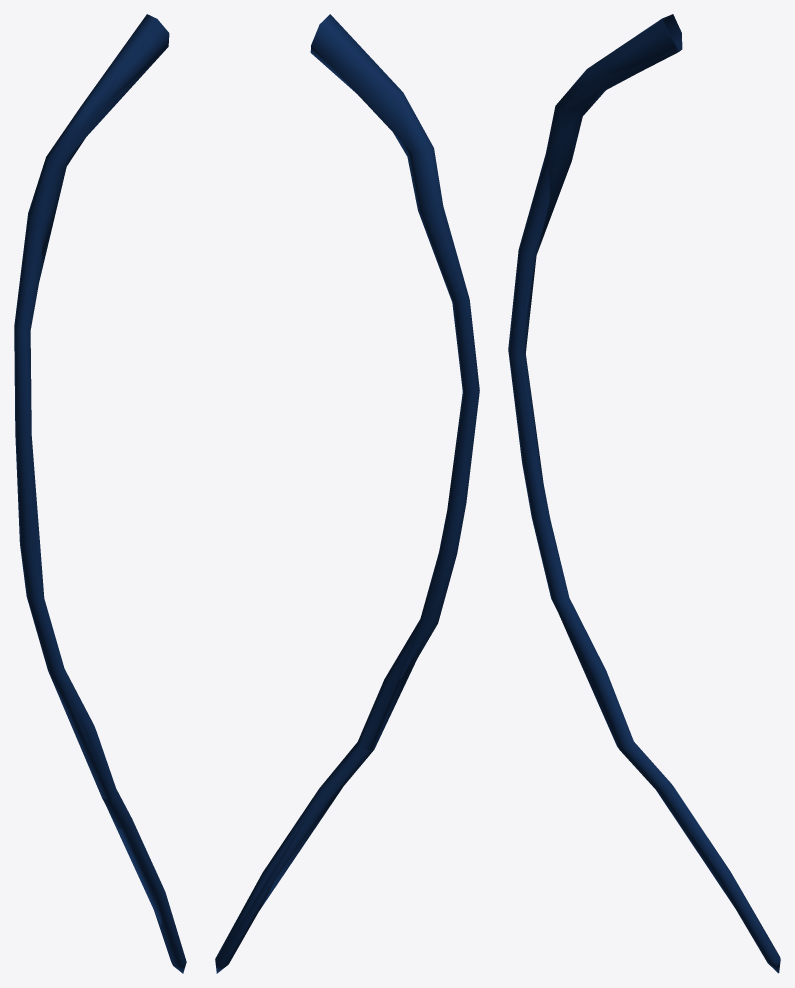
Rendered from R vena ramus cranialis.fbx.
3 views of the same model, side by side, from view 1: azimuth 30°, elevation 25°; view 2: azimuth 150°, elevation 25°; view 3: azimuth 330°, elevation 25° (orthographic). The views are drawn at different scales.
Visible parts, largest first — view 1: R vena ramus cranialis, R vena ramus cranialis low; view 2: R vena ramus cranialis, R vena ramus cranialis low; view 3: R vena ramus cranialis, R vena ramus cranialis low.
Boxes of the visible parts, x1=… form: R vena ramus cranialis: x1=14, y1=19, x2=186, y2=973; R vena ramus cranialis low: x1=21, y1=14, x2=167, y2=949; R vena ramus cranialis: x1=215, y1=93, x2=479, y2=973; R vena ramus cranialis low: x1=216, y1=14, x2=461, y2=965; R vena ramus cranialis: x1=508, y1=14, x2=780, y2=973; R vena ramus cranialis low: x1=519, y1=19, x2=733, y2=905.
Bounding box in the file's own units: 3.62 × 15.5 × 1.79.
